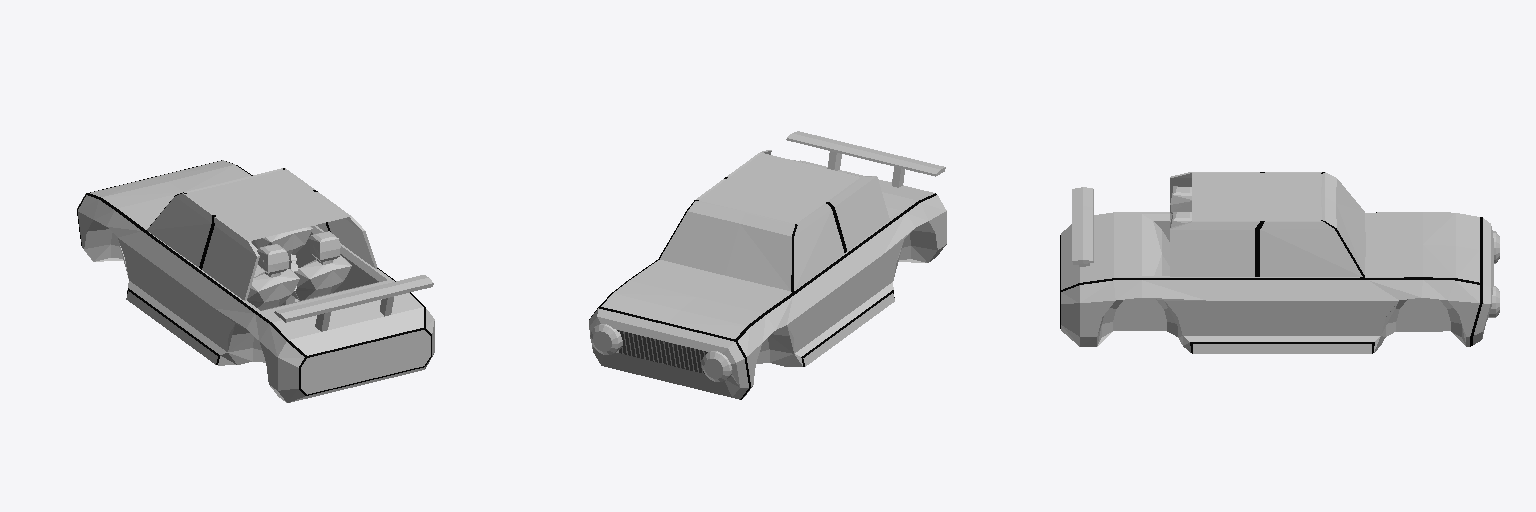
Rendered from semer_ochka.obj.
The picture shows the model from 3 angles: view 1: azimuth 30°, elevation 25°; view 2: azimuth 150°, elevation 25°; view 3: azimuth 270°, elevation 25°; orthographic projection.
Visible parts, largest first — view 1: Cube.028_Cube.019, Cube.009_Cube.004, Cube.008_Cube.003, Cube.007_Cube.002; view 2: Cube.028_Cube.019, Cube.030_Cube.033, Cylinder.016_Cylinder.021; view 3: Cube.028_Cube.019, Cube.008_Cube.003.
Part boxes in pixels (x1,y1,x2,y2): Cube.028_Cube.019: (77, 160, 434, 402); Cube.009_Cube.004: (281, 231, 351, 305); Cube.008_Cube.003: (247, 244, 299, 310); Cube.007_Cube.002: (251, 226, 312, 258); Cube.028_Cube.019: (589, 131, 946, 399); Cube.030_Cube.033: (617, 330, 707, 373); Cylinder.016_Cylinder.021: (590, 324, 732, 381); Cube.028_Cube.019: (1060, 172, 1493, 353); Cube.008_Cube.003: (1170, 186, 1191, 225).
Size of the model in its own units: 1.86 by 1.26 by 4.24.